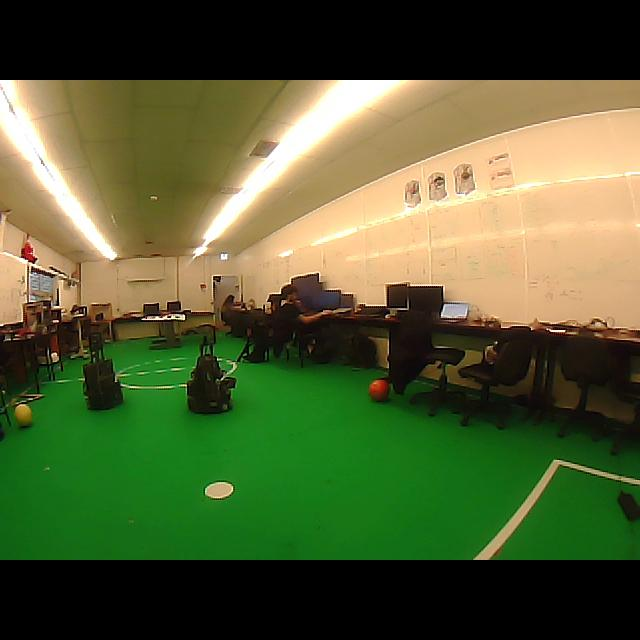ball: (369, 379, 390, 401), (15, 404, 32, 427)
robot: (188, 325, 236, 413), (84, 332, 124, 409)
